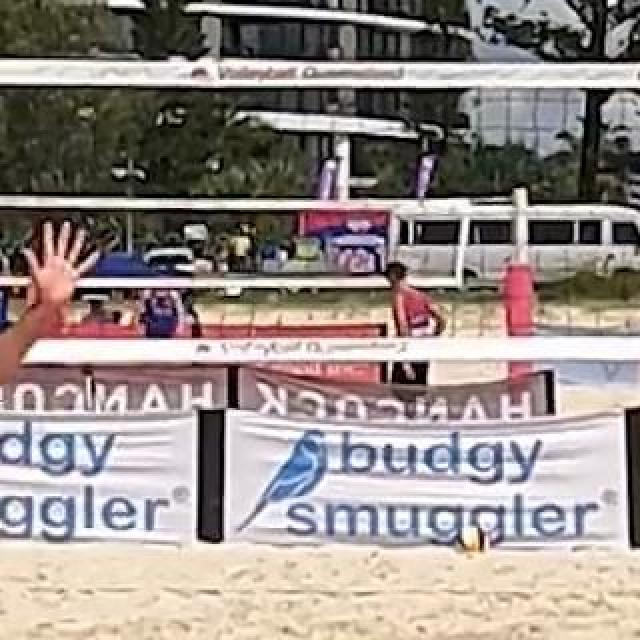volleyball: (455, 524, 489, 558)
